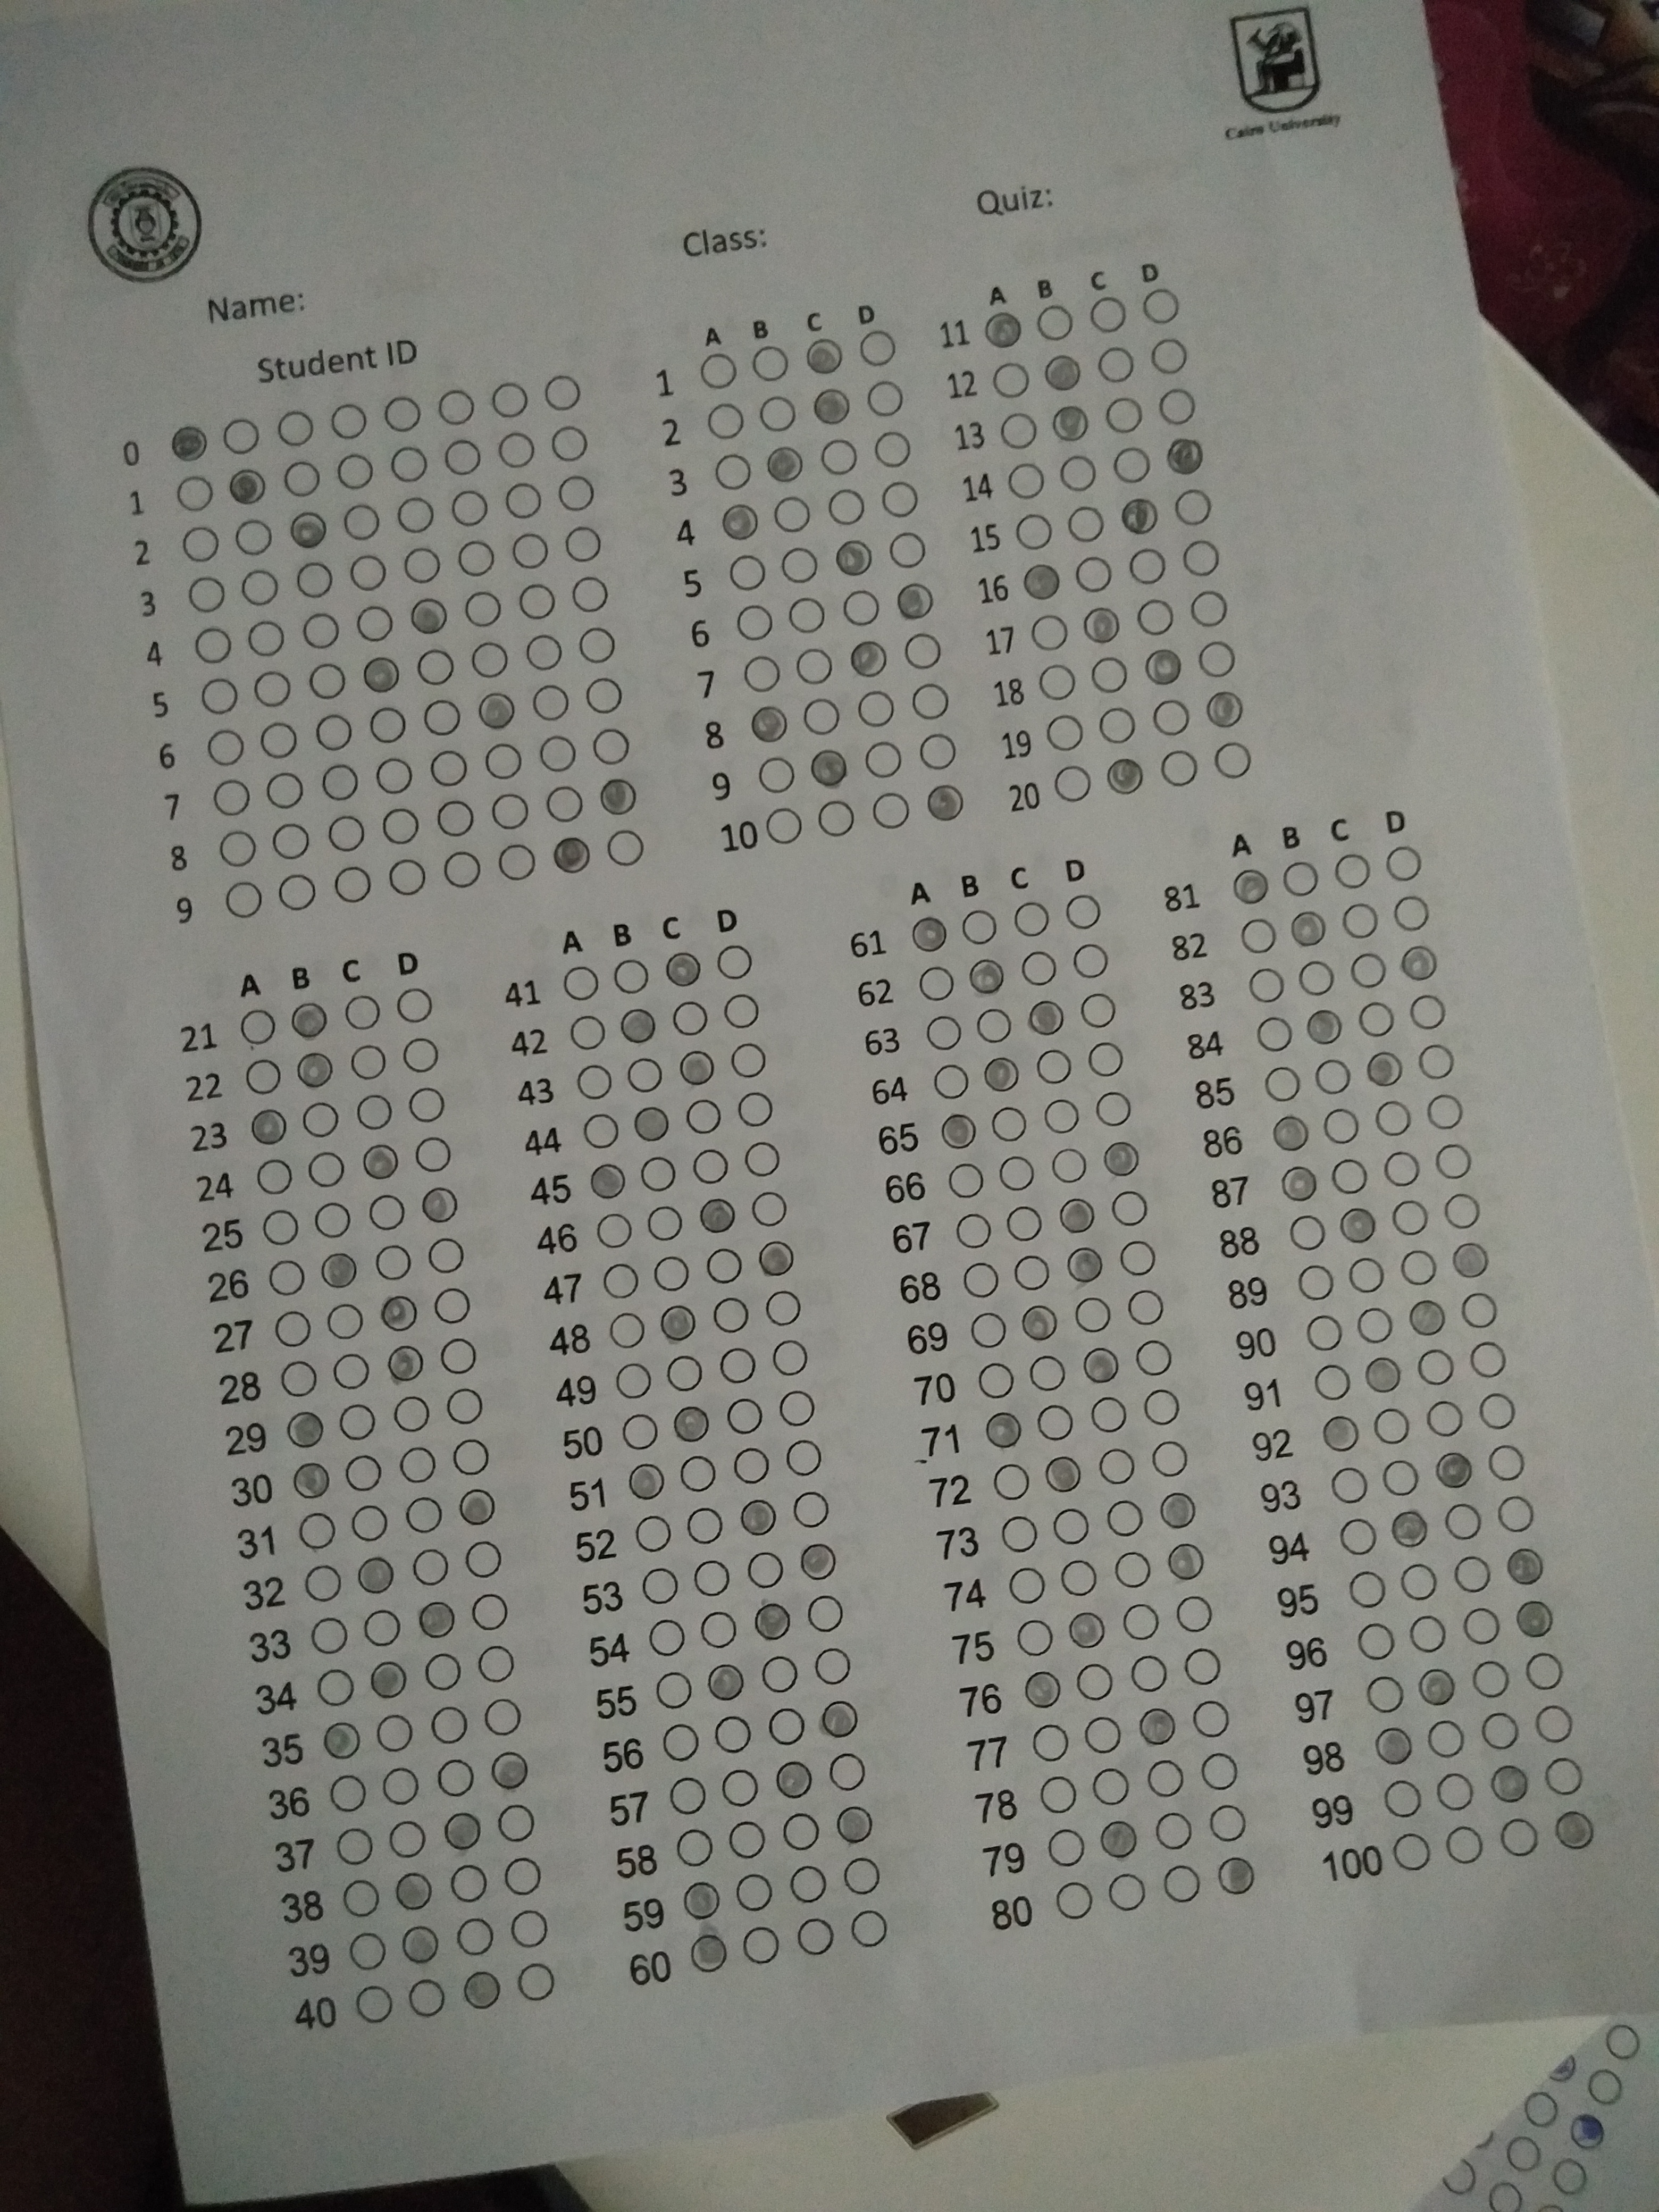not-c: (469, 639, 512, 681), (305, 662, 349, 704), (251, 667, 295, 709), (200, 674, 244, 716), (570, 573, 613, 615), (192, 625, 235, 667), (291, 561, 335, 603), (713, 451, 756, 493), (502, 479, 545, 521), (230, 517, 274, 559), (179, 521, 223, 563), (173, 472, 216, 514), (277, 458, 321, 500), (495, 430, 538, 472), (864, 378, 908, 420), (857, 327, 901, 369), (749, 343, 793, 385), (538, 373, 582, 415), (486, 380, 530, 421), (380, 395, 423, 437), (329, 399, 373, 441), (800, 697, 843, 738), (535, 732, 579, 773), (918, 732, 962, 773), (814, 798, 857, 840), (603, 826, 647, 867), (378, 806, 422, 848), (324, 813, 368, 855), (270, 820, 314, 862), (373, 754, 416, 796), (432, 798, 476, 840), (420, 697, 464, 738), (312, 711, 355, 752), (387, 857, 430, 899), (274, 871, 317, 913), (216, 829, 260, 871), (204, 726, 247, 768), (840, 587, 884, 629), (824, 486, 868, 528), (1065, 503, 1108, 545), (1012, 512, 1056, 554), (1086, 655, 1129, 697), (1035, 662, 1079, 704), (1028, 611, 1072, 653), (1072, 554, 1115, 596), (1213, 740, 1256, 782), (1047, 763, 1091, 805), (997, 409, 1040, 451), (990, 357, 1033, 399), (1033, 301, 1077, 343), (542, 782, 584, 824), (523, 631, 565, 672), (301, 610, 343, 651), (413, 646, 455, 688), (246, 618, 288, 660), (518, 578, 559, 620), (464, 589, 505, 631), (561, 524, 603, 566), (511, 531, 552, 573), (345, 550, 387, 592), (239, 568, 281, 610), (188, 575, 230, 617), (554, 472, 596, 514), (450, 488, 491, 529), (394, 493, 436, 535), (340, 500, 382, 542), (706, 401, 748, 442), (697, 350, 739, 392), (220, 415, 261, 456), (490, 789, 532, 831), (756, 754, 798, 796), (765, 805, 807, 846), (319, 761, 361, 803), (265, 770, 307, 812), (591, 725, 633, 766), (577, 624, 619, 665), (582, 674, 624, 716), (528, 681, 570, 723), (495, 841, 537, 883), (331, 864, 373, 906), (211, 777, 253, 819), (741, 655, 782, 697), (734, 603, 775, 644), (788, 594, 829, 636), (903, 631, 945, 672), (779, 545, 821, 587), (887, 529, 929, 571), (880, 477, 922, 519), (728, 550, 770, 592), (1056, 453, 1098, 495), (1006, 460, 1047, 502), (1127, 545, 1169, 587), (1182, 538, 1223, 580), (1188, 587, 1230, 629), (1152, 697, 1194, 738), (1044, 712, 1086, 754), (1159, 749, 1201, 791), (856, 688, 897, 730), (910, 679, 951, 721), (713, 941, 755, 982), (1070, 939, 1112, 981), (870, 428, 911, 470), (819, 435, 861, 477), (1103, 394, 1145, 435), (1094, 343, 1136, 385), (1089, 294, 1131, 336), (741, 1923, 782, 1965), (786, 1862, 828, 1904), (734, 1871, 775, 1912), (850, 1905, 892, 1947), (842, 1853, 884, 1895), (727, 1817, 769, 1858), (718, 1768, 760, 1810), (667, 1775, 709, 1817), (828, 1750, 870, 1792), (767, 1705, 809, 1747), (795, 1916, 836, 1958), (355, 604, 399, 644), (453, 538, 497, 578), (399, 545, 443, 585), (434, 388, 477, 428), (366, 704, 410, 744), (439, 850, 483, 890), (1110, 444, 1154, 484), (1171, 488, 1215, 528), (1134, 597, 1178, 637), (1094, 705, 1138, 745), (1147, 336, 1190, 376), (441, 437, 483, 477), (756, 395, 798, 435), (389, 444, 430, 484), (547, 425, 589, 465), (274, 408, 315, 448), (483, 740, 525, 780), (863, 740, 904, 780), (868, 791, 910, 831), (427, 749, 469, 789), (256, 721, 298, 761), (225, 880, 267, 920), (769, 495, 810, 535), (1197, 639, 1239, 679), (793, 646, 835, 686), (1155, 387, 1197, 427), (1140, 287, 1182, 327), (974, 1003, 1014, 1045), (1373, 1097, 1413, 1139), (1279, 857, 1319, 899), (349, 1040, 389, 1082), (997, 1153, 1037, 1195), (932, 1061, 972, 1103), (728, 1040, 769, 1082), (338, 1400, 378, 1442), (610, 953, 650, 995), (1124, 1285, 1164, 1327), (1115, 1237, 1155, 1278), (1288, 1212, 1328, 1254), (1382, 1148, 1422, 1190), (1330, 1155, 1370, 1197), (1199, 1750, 1239, 1792), (1105, 1496, 1145, 1538), (1141, 1386, 1182, 1428), (1133, 1336, 1173, 1378), (1434, 1770, 1474, 1811), (392, 1393, 432, 1435), (404, 1494, 444, 1536), (298, 1508, 338, 1550), (261, 1205, 301, 1247), (301, 1099, 342, 1141), (648, 1616, 688, 1658), (699, 1609, 739, 1651), (354, 1984, 394, 2026), (504, 1855, 544, 1897), (340, 1876, 380, 1918), (335, 1825, 375, 1867), (448, 1862, 488, 1904), (469, 1590, 509, 1632), (673, 1827, 714, 1867), (782, 1811, 824, 1851), (713, 1712, 753, 1754), (653, 1669, 694, 1710), (1006, 1564, 1046, 1604), (1079, 989, 1119, 1029), (925, 1012, 965, 1052), (915, 963, 955, 1003), (1019, 948, 1060, 988), (1321, 1106, 1361, 1146), (1312, 1055, 1352, 1096), (1262, 1064, 1302, 1104), (1011, 899, 1051, 939), (1358, 1000, 1398, 1040), (1384, 843, 1424, 883), (958, 906, 999, 946), (1432, 1141, 1473, 1181), (606, 1310, 647, 1350), (704, 1247, 744, 1287), (650, 1251, 690, 1291), (599, 1261, 640, 1301), (749, 1190, 789, 1230), (643, 1204, 683, 1244), (592, 1211, 633, 1251), (342, 993, 382, 1033), (1051, 1144, 1091, 1184), (946, 1160, 986, 1200), (1094, 1089, 1134, 1129), (992, 1104, 1032, 1144), (1087, 1040, 1127, 1080), (1033, 1045, 1073, 1085), (638, 1153, 678, 1193), (690, 1146, 730, 1186), (742, 1139, 782, 1179), (734, 1089, 774, 1129), (683, 1097, 723, 1137), (624, 1055, 664, 1096), (720, 991, 760, 1031), (669, 998, 709, 1038), (413, 1134, 453, 1174), (406, 1083, 446, 1123), (394, 986, 434, 1026), (572, 1061, 612, 1101), (566, 1012, 606, 1052), (561, 961, 601, 1001), (1070, 1294, 1110, 1334), (967, 1310, 1007, 1350), (718, 1345, 758, 1385), (769, 1336, 809, 1376), (711, 1292, 751, 1332), (763, 1287, 803, 1327), (962, 1259, 1002, 1299), (1011, 1251, 1051, 1291), (1002, 1202, 1042, 1242), (953, 1212, 993, 1252), (1471, 1658, 1511, 1698), (1356, 1622, 1396, 1662), (1460, 1606, 1500, 1646), (1338, 1515, 1378, 1555), (1330, 1465, 1370, 1505), (1382, 1460, 1422, 1500), (1445, 1501, 1485, 1541), (1495, 1493, 1535, 1533), (1424, 1399, 1464, 1439), (1467, 1341, 1507, 1381), (1417, 1346, 1457, 1386), (1312, 1362, 1352, 1402), (1305, 1312, 1345, 1352), (1354, 1305, 1394, 1345), (1347, 1256, 1387, 1296), (1295, 1261, 1335, 1301), (1391, 1197, 1431, 1237), (760, 1653, 800, 1693), (814, 1646, 854, 1686), (1107, 1872, 1147, 1912), (1053, 1879, 1093, 1919), (1208, 1803, 1248, 1843), (1145, 1757, 1185, 1797), (1190, 1698, 1230, 1738), (1030, 1721, 1070, 1761), (1182, 1646, 1222, 1686), (1075, 1660, 1115, 1700), (1173, 1594, 1213, 1634), (1121, 1602, 1161, 1642), (1112, 1548, 1152, 1588), (1051, 1507, 1091, 1547), (805, 1594, 845, 1634), (746, 1550, 786, 1590), (791, 1489, 831, 1529), (775, 1388, 816, 1428), (730, 1446, 770, 1486), (782, 1435, 823, 1475), (727, 1395, 767, 1435), (999, 1514, 1039, 1554), (1096, 1446, 1136, 1486), (990, 1463, 1030, 1503), (1033, 1402, 1073, 1442), (1025, 1352, 1065, 1392), (976, 1360, 1016, 1400), (1499, 1817, 1539, 1857), (1443, 1824, 1483, 1864), (1382, 1778, 1422, 1818), (1427, 1717, 1467, 1757), (1534, 1702, 1574, 1742), (1014, 1618, 1054, 1658), (331, 1352, 371, 1392), (315, 1669, 355, 1709), (678, 1454, 718, 1494), (397, 1444, 437, 1484), (451, 1439, 491, 1479), (349, 1501, 389, 1541), (620, 1411, 660, 1451), (666, 1353, 706, 1393), (612, 1360, 652, 1400), (444, 1386, 484, 1426), (437, 1336, 477, 1376), (430, 1285, 471, 1325), (324, 1299, 364, 1339), (272, 1308, 312, 1348), (267, 1258, 307, 1298), (427, 1235, 467, 1275), (373, 1242, 413, 1282), (368, 1191, 408, 1231), (305, 1150, 345, 1190), (254, 1157, 295, 1197), (242, 1055, 282, 1096), (237, 1007, 277, 1047), (514, 1961, 554, 2001), (406, 1977, 446, 2017), (509, 1907, 549, 1947), (455, 1916, 495, 1956), (347, 1932, 387, 1972), (387, 1818, 427, 1858), (497, 1804, 537, 1844), (436, 1759, 476, 1799), (380, 1766, 420, 1806), (329, 1773, 369, 1813), (690, 1557, 730, 1597), (481, 1696, 521, 1737), (427, 1705, 467, 1745), (375, 1712, 415, 1752), (641, 1566, 681, 1606), (685, 1507, 725, 1547), (633, 1514, 673, 1554), (476, 1644, 516, 1684), (423, 1651, 464, 1691), (362, 1608, 403, 1648), (308, 1615, 349, 1655), (462, 1540, 502, 1580), (411, 1547, 451, 1587), (303, 1562, 343, 1602), (660, 1721, 701, 1761), (1410, 991, 1448, 1033), (1255, 1014, 1293, 1055), (1248, 965, 1286, 1007), (1112, 1186, 1150, 1228), (580, 1109, 619, 1151), (1366, 1672, 1405, 1714), (1453, 1552, 1492, 1594), (1399, 1561, 1438, 1602), (1046, 1825, 1084, 1867), (1039, 1773, 1077, 1815), (1544, 1756, 1582, 1797), (279, 1357, 317, 1399), (343, 1451, 382, 1493), (1427, 1090, 1466, 1130), (1417, 1042, 1455, 1082), (1297, 958, 1335, 998), (1349, 949, 1387, 989), (1392, 892, 1431, 932), (1342, 899, 1380, 939), (1335, 850, 1373, 890), (1065, 890, 1103, 930), (354, 1090, 392, 1130), (399, 1035, 437, 1075), (1525, 1651, 1563, 1691), (1408, 1615, 1446, 1655), (1349, 1569, 1387, 1609), (1486, 1442, 1525, 1482), (1478, 1392, 1516, 1432), (1371, 1406, 1410, 1446), (1460, 1291, 1499, 1331), (1399, 1247, 1438, 1287), (1443, 1191, 1481, 1231), (1060, 1559, 1098, 1599), (1162, 1864, 1201, 1904), (1154, 1811, 1192, 1851), (1091, 1766, 1129, 1806), (1082, 1714, 1121, 1754), (1127, 1653, 1166, 1693), (1150, 1439, 1188, 1479), (1089, 1393, 1127, 1433), (1392, 1831, 1431, 1871), (1481, 1709, 1520, 1749), (312, 1200, 350, 1240), (1239, 916, 1277, 954), (1042, 1097, 1080, 1136)
taken-c: (688, 1935, 730, 1975), (751, 1602, 793, 1642), (1216, 1855, 1258, 1895), (392, 1871, 434, 1911), (1080, 1345, 1122, 1385), (983, 1411, 1025, 1451), (1042, 1453, 1084, 1493), (1066, 1611, 1108, 1651), (1417, 1667, 1459, 1707), (678, 1049, 720, 1089), (293, 1049, 335, 1089), (657, 1303, 699, 1343), (983, 308, 1025, 348), (809, 747, 850, 787), (1105, 758, 1147, 798), (1288, 909, 1330, 949), (763, 444, 805, 484), (476, 691, 518, 732), (225, 467, 267, 507), (169, 423, 211, 463), (800, 1540, 840, 1580), (1021, 1670, 1061, 1710), (819, 1698, 859, 1738), (706, 1662, 746, 1702), (775, 1757, 816, 1797), (833, 1803, 873, 1843), (1100, 1820, 1140, 1860), (462, 1968, 502, 2008), (399, 1925, 439, 1965), (441, 1811, 481, 1851), (490, 1749, 530, 1789), (321, 1721, 361, 1761), (366, 1660, 406, 1700), (416, 1597, 457, 1637), (1281, 1162, 1321, 1202), (1338, 1205, 1378, 1245), (1450, 1242, 1490, 1282), (1363, 1353, 1403, 1393), (1138, 1705, 1178, 1745), (1166, 1541, 1206, 1581), (1155, 1489, 1195, 1529), (1321, 1413, 1361, 1453), (1434, 1451, 1474, 1491), (1391, 1510, 1431, 1550), (1506, 1547, 1546, 1587), (1514, 1599, 1554, 1639), (1375, 1726, 1415, 1766), (1490, 1764, 1530, 1804), (1554, 1810, 1595, 1850), (1270, 1115, 1310, 1155), (941, 1111, 981, 1151), (1101, 1139, 1141, 1179), (1056, 1193, 1096, 1233), (1065, 1242, 1105, 1282), (619, 1005, 659, 1045), (289, 1000, 329, 1040), (247, 1108, 288, 1148), (361, 1141, 401, 1181), (631, 1104, 671, 1144), (420, 1184, 460, 1224), (587, 1162, 627, 1202), (697, 1195, 737, 1235), (755, 1238, 795, 1278), (319, 1249, 359, 1289), (380, 1292, 420, 1332), (387, 1343, 427, 1383), (286, 1409, 326, 1449), (291, 1460, 331, 1500), (673, 1402, 713, 1442), (737, 1496, 777, 1536), (1044, 352, 1084, 392), (1051, 402, 1091, 442), (1164, 435, 1204, 475), (1119, 496, 1159, 536), (1019, 561, 1060, 601), (925, 780, 965, 820), (1082, 604, 1122, 644), (1145, 646, 1185, 686), (1206, 690, 1246, 730), (1399, 942, 1439, 982), (1305, 1007, 1345, 1047), (1364, 1047, 1405, 1087), (1230, 866, 1270, 906), (910, 914, 950, 954), (965, 956, 1006, 996), (1026, 1000, 1066, 1040), (981, 1054, 1021, 1094), (718, 502, 758, 542), (812, 387, 852, 427), (803, 336, 843, 376), (831, 538, 871, 578), (896, 582, 936, 622), (849, 639, 889, 679), (551, 833, 591, 873), (598, 777, 638, 817), (361, 655, 401, 695), (411, 596, 451, 636), (289, 510, 329, 550), (457, 1487, 498, 1526), (626, 1463, 667, 1501), (355, 1557, 396, 1595), (681, 1881, 721, 1919), (1019, 1305, 1060, 1343), (1408, 1298, 1448, 1336), (664, 951, 704, 989), (749, 705, 789, 744)
